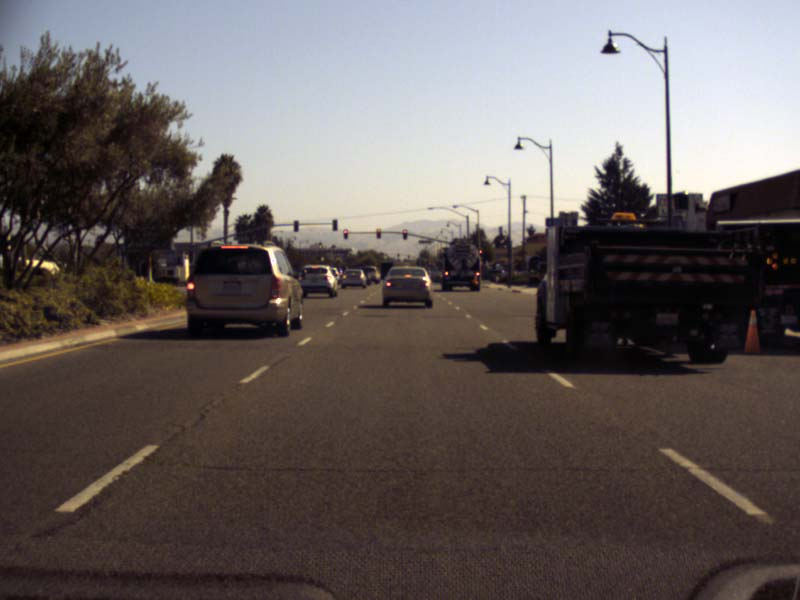Red: (402, 230, 406, 239), (376, 229, 380, 238), (343, 230, 347, 238), (478, 249, 482, 253)
